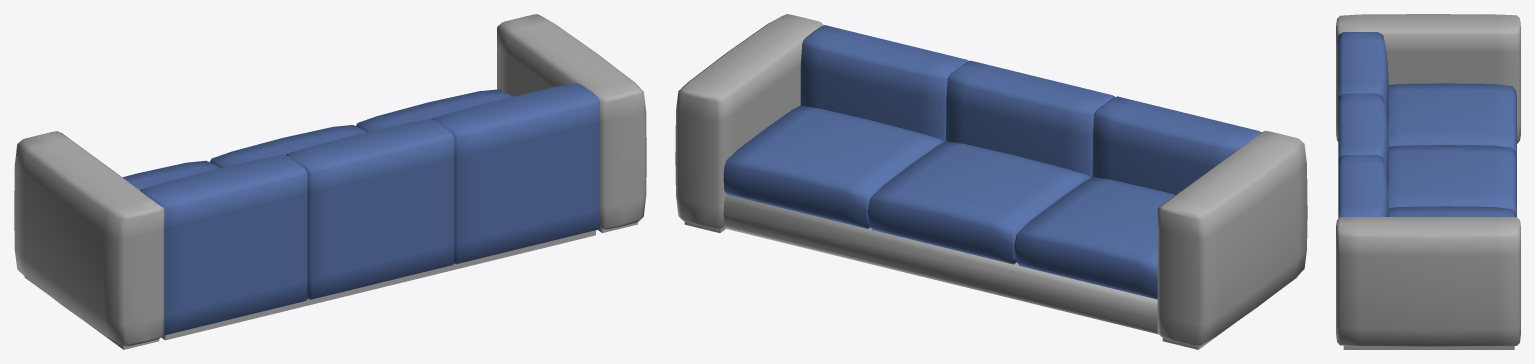
The model's file is meko knba 3 _ 19.fbx.
The picture shows the model from 3 angles, left to right: view 1: azimuth 30°, elevation 25°; view 2: azimuth 150°, elevation 25°; view 3: azimuth 270°, elevation 25°; orthographic projection. The views are drawn at different scales.
Visible parts, largest first — view 1: back (×3), left, right, seat (×3), legs; view 2: seat (×3), back (×3), left, right, base; view 3: right, seat (×3), left, back (×3), legs.
Boxes of the visible parts, left/top/right/bottom form: back (×3): left=140, top=83, right=599, bottom=335; left: left=14, top=131, right=164, bottom=346; right: left=497, top=14, right=646, bottom=229; seat (×3): left=123, top=89, right=512, bottom=189; legs: left=24, top=222, right=637, bottom=349; seat (×3): left=723, top=105, right=1175, bottom=299; back (×3): left=800, top=25, right=1261, bottom=194; left: left=1157, top=130, right=1307, bottom=346; right: left=675, top=14, right=823, bottom=229; base: left=723, top=194, right=1158, bottom=334; right: left=1336, top=217, right=1520, bottom=347; seat (×3): left=1388, top=83, right=1516, bottom=216; left: left=1336, top=14, right=1520, bottom=143; back (×3): left=1338, top=32, right=1388, bottom=218; legs: left=1343, top=345, right=1514, bottom=349.
Bounding box in the file's own units: 273 × 66.59 × 94.59.
